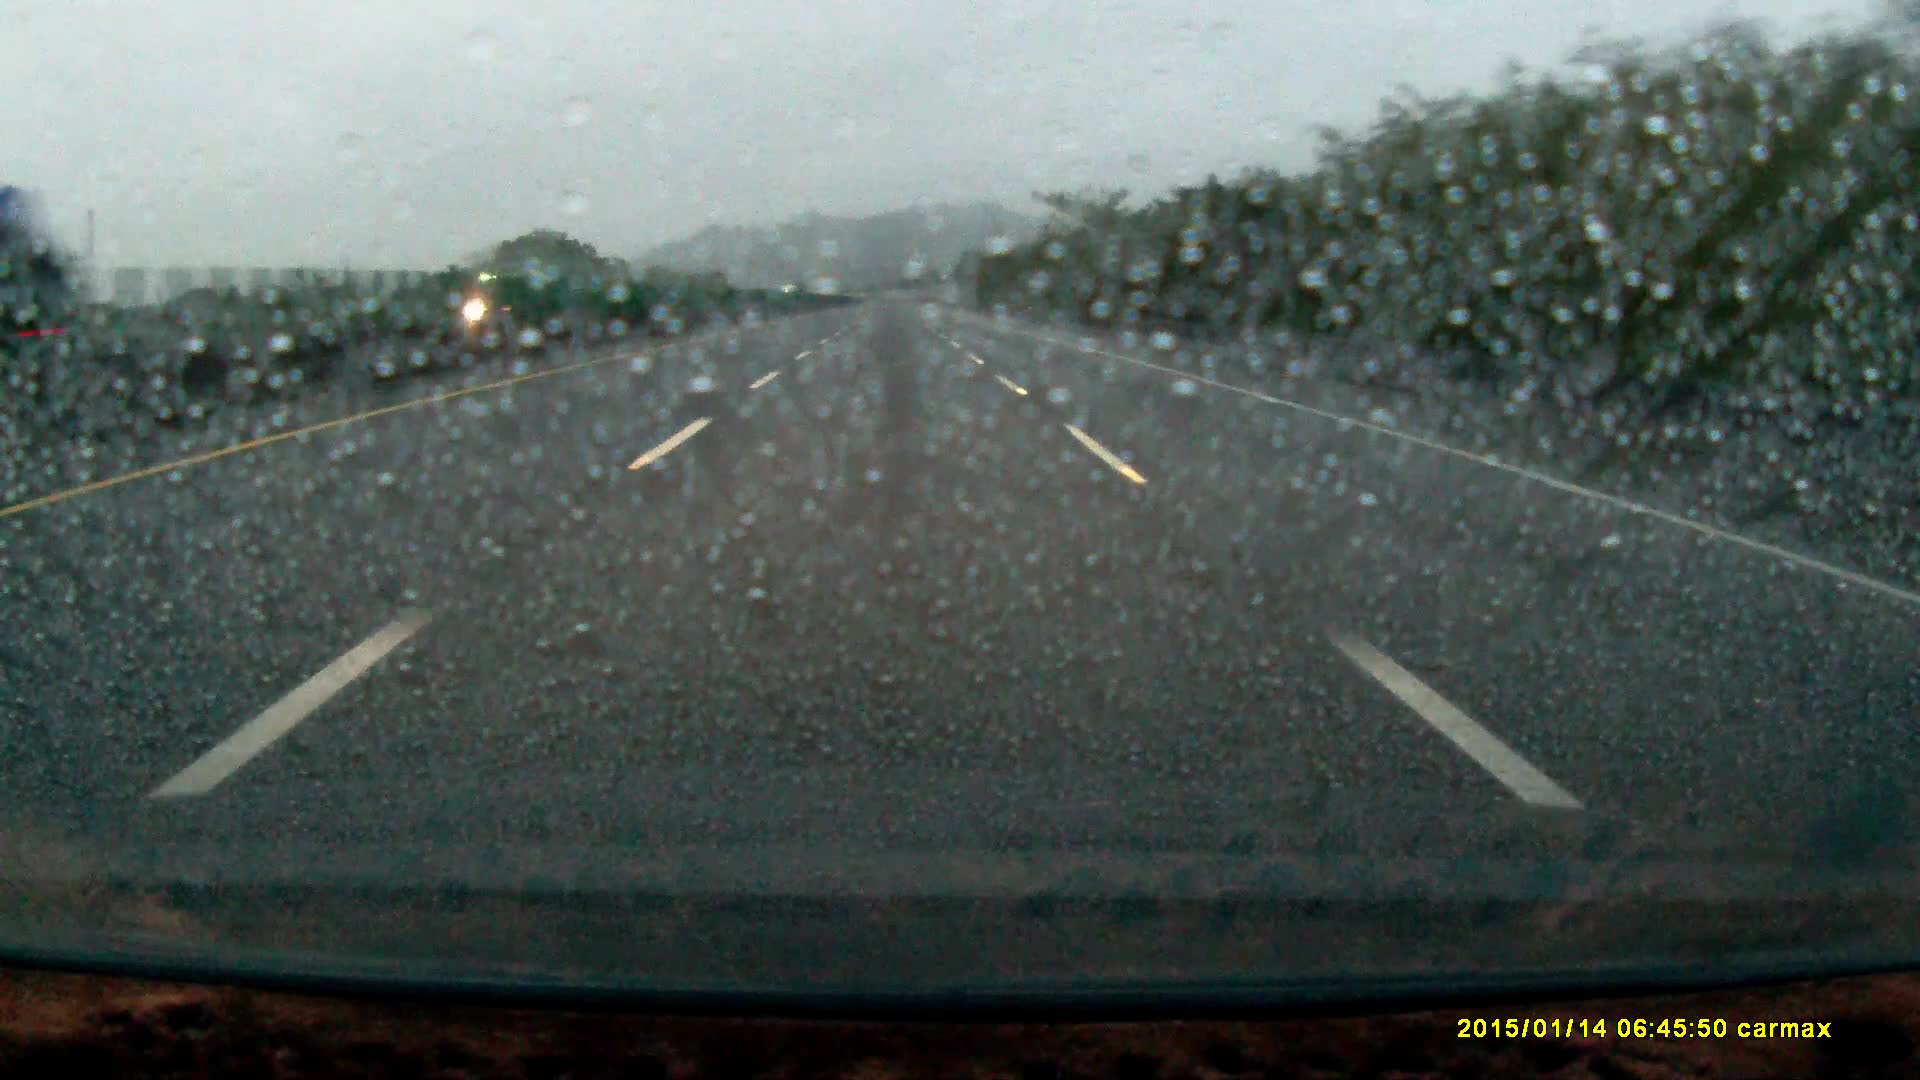vehicle: (462, 260, 579, 335)
